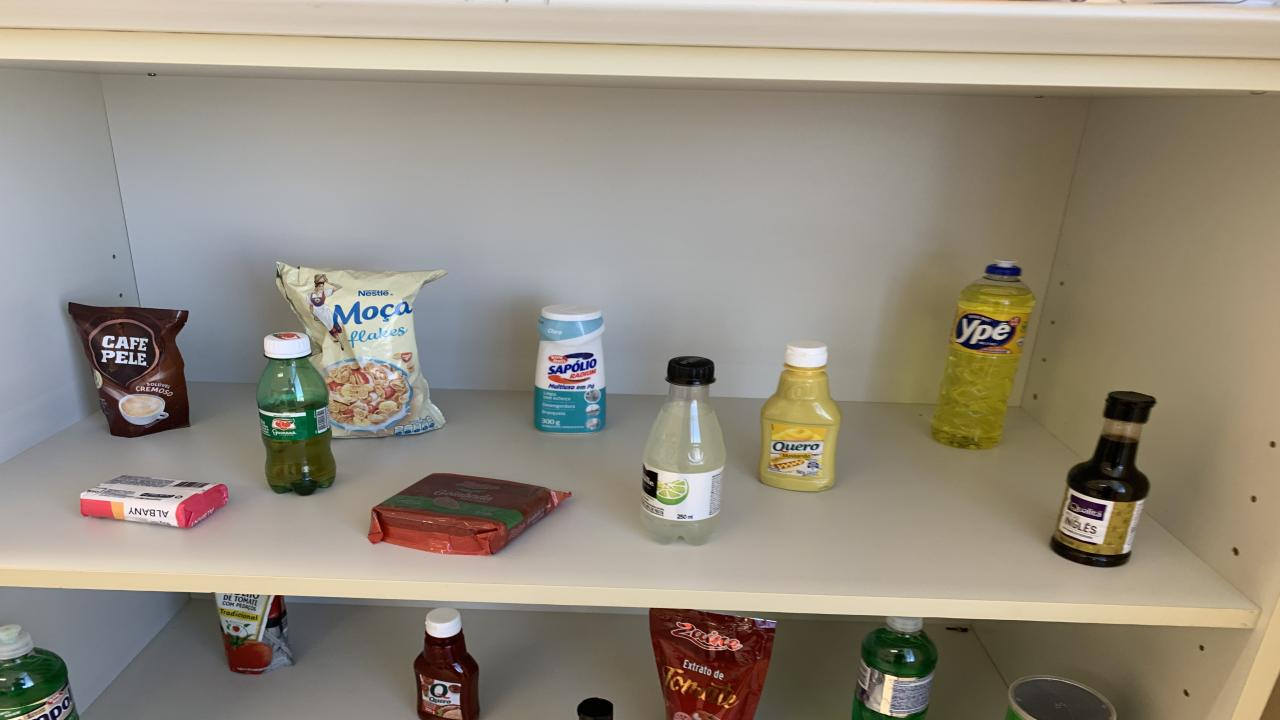Cleaner-Cleanup_Items: (535, 304, 605, 433)
Coffee-Pantry_Items: (70, 302, 190, 437)
Detergent-Cleanup_Items: (930, 261, 1035, 448), (852, 617, 938, 720), (0, 624, 78, 720)
English_Sauce-Pantry_Items: (1050, 392, 1155, 566), (578, 698, 612, 720)
Flakes-Snacks: (278, 262, 445, 437)
Guarana-Drinks: (258, 332, 335, 495)
Guava-Snacks: (368, 472, 570, 555)
Ketchup-Pantry_Items: (415, 608, 480, 720)
Mustard-Pantry_Items: (758, 341, 842, 491)
Pringles-Snacks: (1008, 675, 1118, 720)
Soap-Cleanup_Items: (83, 472, 231, 524)
Soda-Drinks: (642, 356, 725, 546)
Tomato_Sauce-Pantry_Items: (650, 608, 775, 720), (215, 592, 292, 673)
